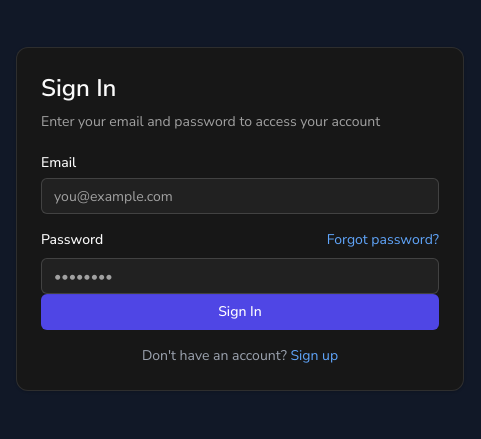
Test: SignInPage error and 2FA handling (#198) › shows a generic message (never the raw backend text) for an unmatched error (#215)
The width and height of the screenshot is (481, 439).
Type "test@example.com" into the field labelled "Email". click: point(240, 196)
box: [41, 178, 439, 214]
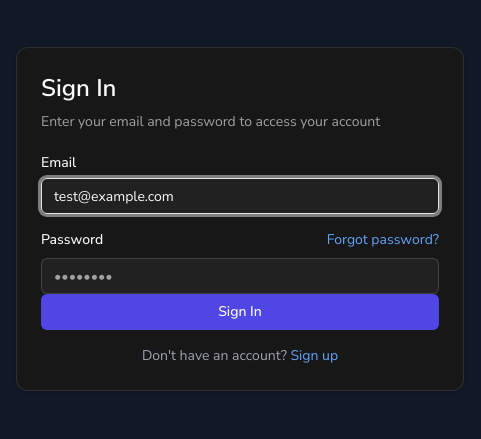
Type "pw1234" into the password field labelled "Password". click: point(240, 276)
box: [41, 258, 439, 294]
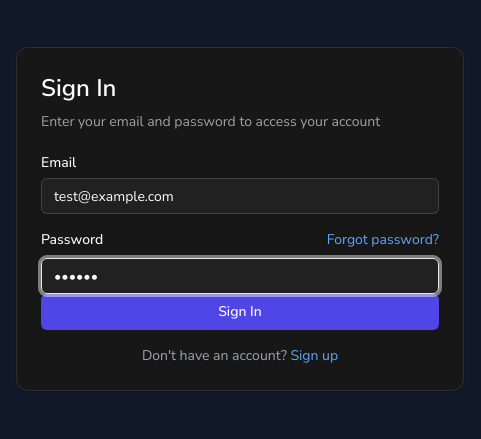
Click the button "Sign In". click: point(240, 312)
box: [41, 294, 439, 330]
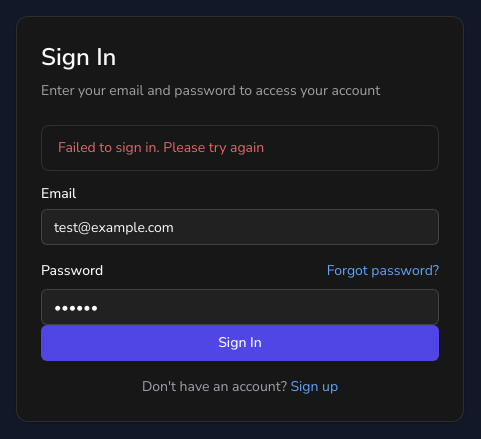
Now the text "Failed to sign in. Please try again" is shown, box [58, 138, 264, 157]
